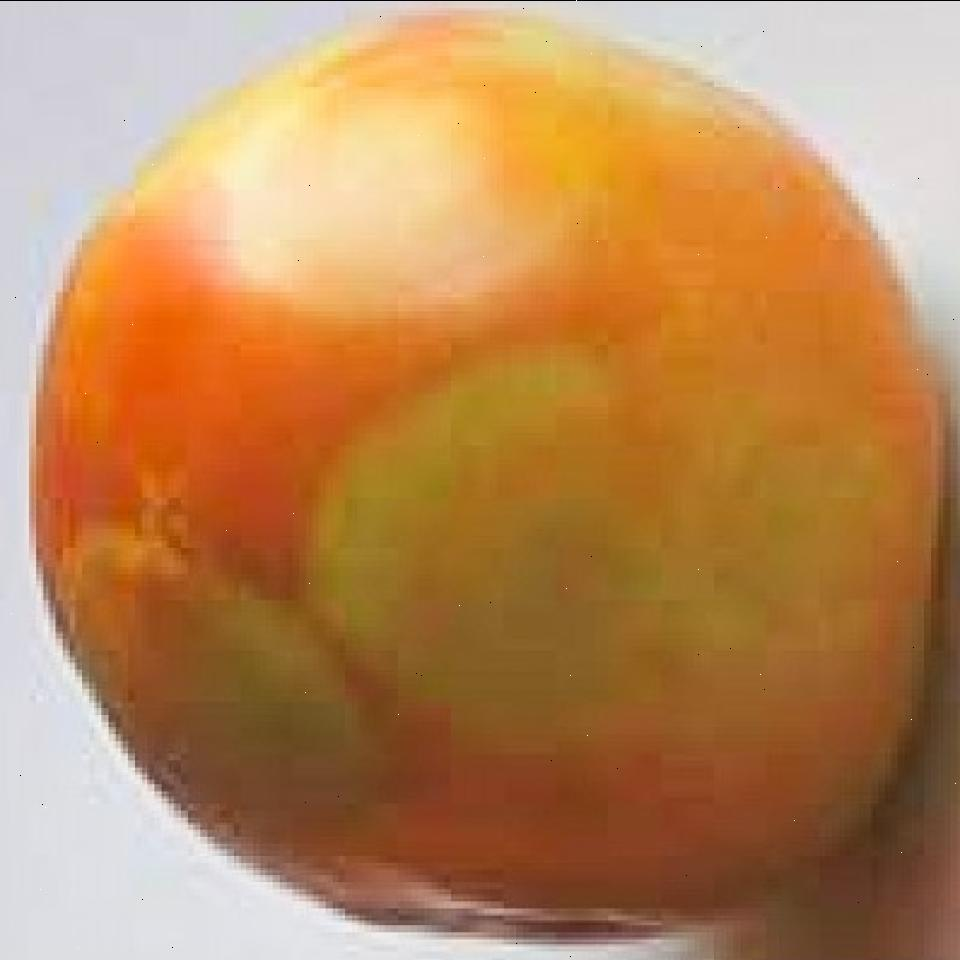Spotted wilt Virus: (21, 6, 946, 942)
